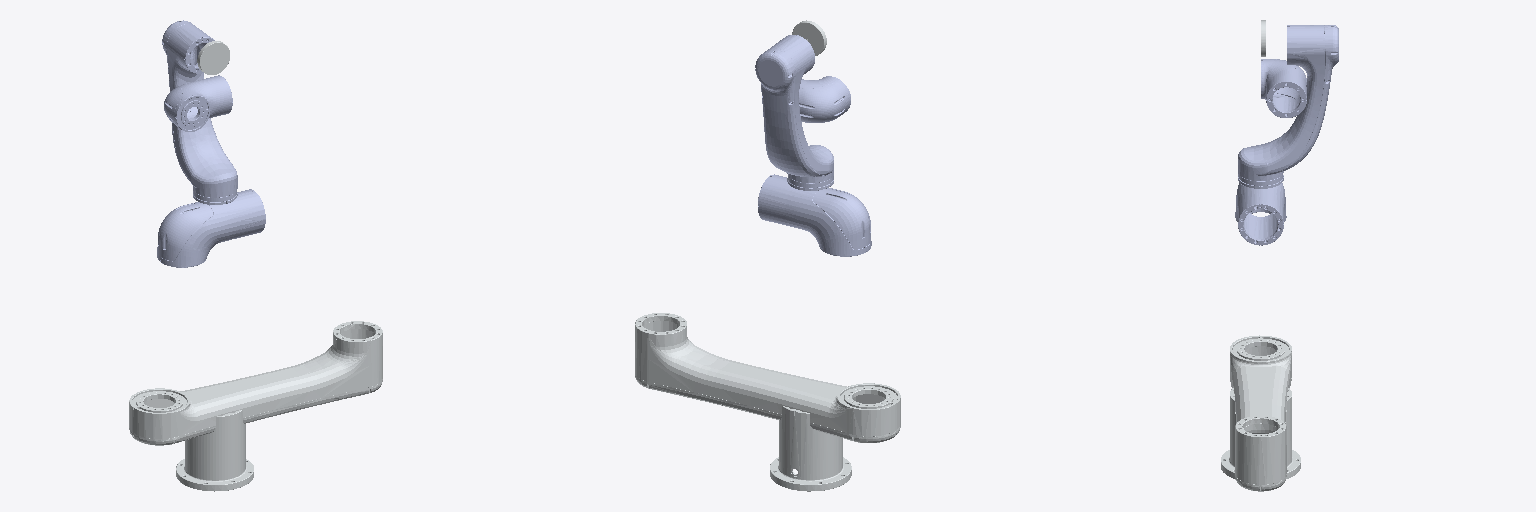
The robot description file, URDF, robot "arm3":
<?xml version="1.0" encoding="utf-8"?>
<!-- This URDF was automatically created by SolidWorks to URDF Exporter! Originally created by [author] ([email redacted]) 
     Commit Version: 1.6.0-1-g15f4949  Build Version: 1.6.7594.29634
     For more information, please see http://wiki.ros.org/sw_urdf_exporter -->
<robot
  name="arm3">
  <link
    name="base_link">
    <inertial>
      <origin
        xyz="-9.79424593313345E-06 -1.585955657668E-07 0.0489234030702085"
        rpy="0 0 0" />
      <mass
        value="0.804132326407685" />
      <inertia
        ixx="0.00208344333564978"
        ixy="1.18558125536883E-09"
        ixz="5.74696984729546E-07"
        iyy="0.00215790750330381"
        iyz="3.91108221651984E-09"
        izz="0.00189424843776922" />
    </inertial>
    <visual>
      <origin
        xyz="0 0 0"
        rpy="0 0 0" />
      <geometry>
        <mesh
          filename="package://ti5_urdf/meshes/arm3/base_link.STL" />
      </geometry>
      <material
        name="">
        <color
          rgba="0.898039215686275 0.917647058823529 0.929411764705882 1" />
      </material>
    </visual>
    <collision>
      <origin
        xyz="0 0 0"
        rpy="0 0 0" />
      <geometry>
        <mesh
          filename="package://ti5_urdf/meshes/arm3/base_link.STL" />
      </geometry>
    </collision>
  </link>
  <link
    name="A_Link">
    <inertial>
      <origin
        xyz="-0.0489008596868101 1.11612938793922E-06 0.0463358566053683"
        rpy="0 0 0" />
      <mass
        value="0.610762503342567" />
      <inertia
        ixx="0.00114147247329587"
        ixy="5.06610157576292E-08"
        ixz="0.000594506347228851"
        iyy="0.00188787363342557"
        iyz="-1.78802582128474E-09"
        izz="0.00179154452662575" />
    </inertial>
    <visual>
      <origin
        xyz="0 0 0"
        rpy="0 0 0" />
      <geometry>
        <mesh
          filename="package://ti5_urdf/meshes/arm3/A_Link.STL" />
      </geometry>
      <material
        name="">
        <color
          rgba="0.792156862745098 0.819607843137255 0.933333333333333 1" />
      </material>
    </visual>
    <collision>
      <origin
        xyz="0 0 0"
        rpy="0 0 0" />
      <geometry>
        <mesh
          filename="package://ti5_urdf/meshes/arm3/A_Link.STL" />
      </geometry>
    </collision>
  </link>
  <joint
    name="A"
    type="revolute">
    <origin
      xyz="0 0 0.126"
      rpy="0 0 0" />
    <parent
      link="base_link" />
    <child
      link="A_Link" />
    <axis
      xyz="0 0 -1" />
    <limit
      lower="-3.16"
      upper="3.16"
      effort="0"
      velocity="0" />
  </joint>
  <link
    name="B_Link">
    <inertial>
      <origin
        xyz="-0.0148174543621407 -7.32844793930168E-07 0.163674093761747"
        rpy="0 0 0" />
      <mass
        value="1.01613483164023" />
      <inertia
        ixx="0.0150679500066006"
        ixy="-4.4816327486528E-09"
        ixz="-0.00102504390856525"
        iyy="0.014770883335043"
        iyz="-1.82516394777523E-07"
        izz="0.00115753465608845" />
    </inertial>
    <visual>
      <origin
        xyz="0 0 0"
        rpy="0 0 0" />
      <geometry>
        <mesh
          filename="package://ti5_urdf/meshes/arm3/B_Link.STL" />
      </geometry>
      <material
        name="">
        <color
          rgba="0.898039215686275 0.917647058823529 0.929411764705882 1" />
      </material>
    </visual>
    <collision>
      <origin
        xyz="0 0 0"
        rpy="0 0 0" />
      <geometry>
        <mesh
          filename="package://ti5_urdf/meshes/arm3/B_Link.STL" />
      </geometry>
    </collision>
  </link>
  <joint
    name="B"
    type="revolute">
    <origin
      xyz="-0.126 0 0.064"
      rpy="0 0 0" />
    <parent
      link="A_Link" />
    <child
      link="B_Link" />
    <axis
      xyz="1 0 0" />
    <limit
      lower="-1.9"
      upper="1.9"
      effort="0"
      velocity="0" />
  </joint>
  <link
    name="C_Link">
    <inertial>
      <origin
        xyz="0.0525172381530465 -6.40515808356063E-07 0.0357525410320489"
        rpy="0 0 0" />
      <mass
        value="0.207878829794794" />
      <inertia
        ixx="0.000453317419670722"
        ixy="-7.59755901152063E-08"
        ixz="-0.000198039237717296"
        iyy="0.000537145689525471"
        iyz="2.48179360794005E-09"
        izz="0.000355868230184589" />
    </inertial>
    <visual>
      <origin
        xyz="0 0 0"
        rpy="0 0 0" />
      <geometry>
        <mesh
          filename="package://ti5_urdf/meshes/arm3/C_Link.STL" />
      </geometry>
      <material
        name="">
        <color
          rgba="0.792156862745098 0.819607843137255 0.933333333333333 1" />
      </material>
    </visual>
    <collision>
      <origin
        xyz="0 0 0"
        rpy="0 0 0" />
      <geometry>
        <mesh
          filename="package://ti5_urdf/meshes/arm3/C_Link.STL" />
      </geometry>
    </collision>
  </link>
  <joint
    name="C"
    type="revolute">
    <origin
      xyz="0.051 0 0.3"
      rpy="0 0 0" />
    <parent
      link="B_Link" />
    <child
      link="C_Link" />
    <axis
      xyz="-1 0 0" />
    <limit
      lower="-2.86"
      upper="2.86"
      effort="0"
      velocity="0" />
  </joint>
  <link
    name="D_Link">
    <inertial>
      <origin
        xyz="-0.0576191157563622 2.43715994806255E-05 0.0843683613129461"
        rpy="0 0 0" />
      <mass
        value="0.94571879177376" />
      <inertia
        ixx="0.00414477030324942"
        ixy="-2.77134320032314E-07"
        ixz="0.00138044790034346"
        iyy="0.0049787768272479"
        iyz="1.1299462726495E-06"
        izz="0.0017840358294831" />
    </inertial>
    <visual>
      <origin
        xyz="0 0 0"
        rpy="0 0 0" />
      <geometry>
        <mesh
          filename="package://ti5_urdf/meshes/arm3/D_Link.STL" />
      </geometry>
      <material
        name="">
        <color
          rgba="0.792156862745098 0.819607843137255 0.933333333333333 1" />
      </material>
    </visual>
    <collision>
      <origin
        xyz="0 0 0"
        rpy="0 0 0" />
      <geometry>
        <mesh
          filename="package://ti5_urdf/meshes/arm3/D_Link.STL" />
      </geometry>
    </collision>
  </link>
  <joint
    name="D"
    type="revolute">
    <origin
      xyz="0.075 0 0.116"
      rpy="0 0 0" />
    <parent
      link="C_Link" />
    <child
      link="D_Link" />
    <axis
      xyz="0 0 1" />
    <limit
      lower="-3.14"
      upper="3.14"
      effort="0"
      velocity="0" />
  </joint>
  <link
    name="E_Link">
    <inertial>
      <origin
        xyz="0.0378598160761921 -0.0307530160085382 -4.21029879971169E-06"
        rpy="0 0 0" />
      <mass
        value="0.156943200024781" />
      <inertia
        ixx="0.000278323597354339"
        ixy="8.60055845798391E-05"
        ixz="1.94162832921587E-08"
        iyy="0.000202881857355078"
        iyz="-1.27291248900308E-08"
        izz="0.000282189661463822" />
    </inertial>
    <visual>
      <origin
        xyz="0 0 0"
        rpy="0 0 0" />
      <geometry>
        <mesh
          filename="package://ti5_urdf/meshes/arm3/E_Link.STL" />
      </geometry>
      <material
        name="">
        <color
          rgba="0.792156862745098 0.819607843137255 0.933333333333333 1" />
      </material>
    </visual>
    <collision>
      <origin
        xyz="0 0 0"
        rpy="0 0 0" />
      <geometry>
        <mesh
          filename="package://ti5_urdf/meshes/arm3/E_Link.STL" />
      </geometry>
    </collision>
  </link>
  <joint
    name="E"
    type="revolute">
    <origin
      xyz="-0.049 0 0.189"
      rpy="-1.5708 0 0" />
    <parent
      link="D_Link" />
    <child
      link="E_Link" />
    <axis
      xyz="-1 0 0" />
    <limit
      lower="-3.14"
      upper="3.14"
      effort="0"
      velocity="0" />
  </joint>
  <link
    name="F_Link">
    <inertial>
      <origin
        xyz="-6.68543036141469E-11 0.00611552287926212 -0.00010310644248579"
        rpy="0 0 0" />
      <mass
        value="0.0834496515997102" />
      <inertia
        ixx="2.34250403399503E-05"
        ixy="3.2110899735671E-14"
        ixz="-1.38252176337189E-13"
        iyy="4.4477421647326E-05"
        iyz="4.41463010684962E-08"
        izz="2.31770375051733E-05" />
    </inertial>
    <visual>
      <origin
        xyz="0 0 0"
        rpy="0 0 0" />
      <geometry>
        <mesh
          filename="package://ti5_urdf/meshes/arm3/F_Link.STL" />
      </geometry>
      <material
        name="">
        <color
          rgba="0.898039215686275 0.917647058823529 0.929411764705882 1" />
      </material>
    </visual>
    <collision>
      <origin
        xyz="0 0 0"
        rpy="0 0 0" />
      <geometry>
        <mesh
          filename="package://ti5_urdf/meshes/arm3/F_Link.STL" />
      </geometry>
    </collision>
  </link>
  <joint
    name="F"
    type="revolute">
    <origin
      xyz="0.049 -0.108 0"
      rpy="0 0 0" />
    <parent
      link="E_Link" />
    <child
      link="F_Link" />
    <axis
      xyz="0 1 0" />
    <limit
      lower="-3.14"
      upper="3.14"
      effort="0"
      velocity="0" />
  </joint>


  

  </robot>

--- Render facts (derived) ---
3 views of the same robot in one strip: view 1: azimuth 30°, elevation 25°; view 2: azimuth 150°, elevation 25°; view 3: azimuth 270°, elevation 25° (orthographic).
Model arm3 with 7 links and 6 joints (6 revolute), rooted at base_link, posed every joint at zero.
Visible links, largest first — view 1: B_Link, D_Link, C_Link, base_link, E_Link, F_Link; view 2: B_Link, D_Link, C_Link, base_link, E_Link, F_Link; view 3: B_Link, D_Link, C_Link, E_Link, base_link.
Link boxes in pixels (x1,y1,x2,y2): B_Link: (129, 321, 382, 445); D_Link: (162, 20, 237, 204); C_Link: (157, 189, 265, 267); base_link: (176, 410, 253, 491); E_Link: (164, 75, 232, 131); F_Link: (197, 41, 229, 74); B_Link: (635, 313, 900, 442); D_Link: (755, 35, 833, 190); C_Link: (758, 174, 871, 256); base_link: (770, 406, 851, 491); E_Link: (799, 76, 850, 122); F_Link: (792, 20, 826, 55); B_Link: (1230, 335, 1291, 491); D_Link: (1238, 25, 1338, 188); C_Link: (1235, 183, 1286, 245); E_Link: (1261, 59, 1306, 117); base_link: (1221, 387, 1300, 479).
Bounding box of the posed robot: 0.559 × 0.227 × 0.938 m (x, y, z).
Meshes: 7 distinct files referenced, 6 mesh visuals loaded (6 binary STL); not drawn: 1 (reference not matched to a file when rendering).